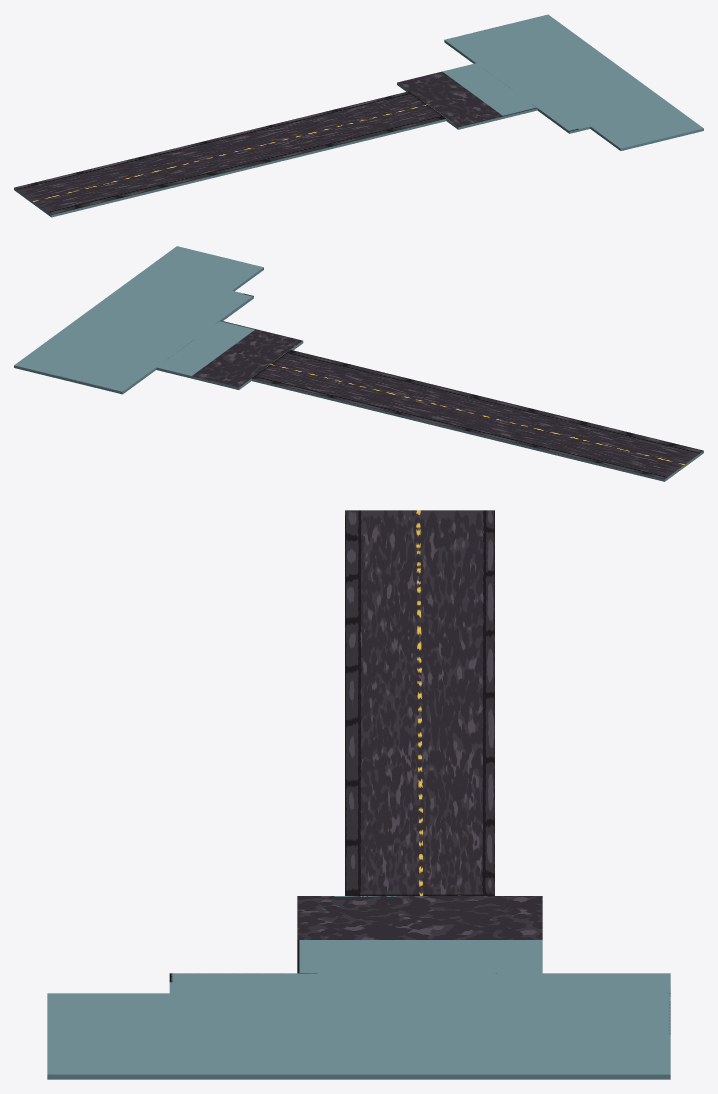
The model's file is Levelgay 1.fbx.
The picture shows the model from 3 angles, top to bottom: view 1: azimuth 30°, elevation 25°; view 2: azimuth 150°, elevation 25°; view 3: azimuth 270°, elevation 25°; orthographic projection. The views are drawn at different scales.
Parts seen in each view (by area): view 1: Suelogeneral; view 2: Suelogeneral; view 3: Suelogeneral.
Boxes of the visible parts, box(x1,y1,x2,y2) form: Suelogeneral: box(14, 14, 703, 217); Suelogeneral: box(14, 246, 703, 481); Suelogeneral: box(47, 510, 670, 1079).
Bounding box in the file's own units: 123 × 0.498 × 57.37.
